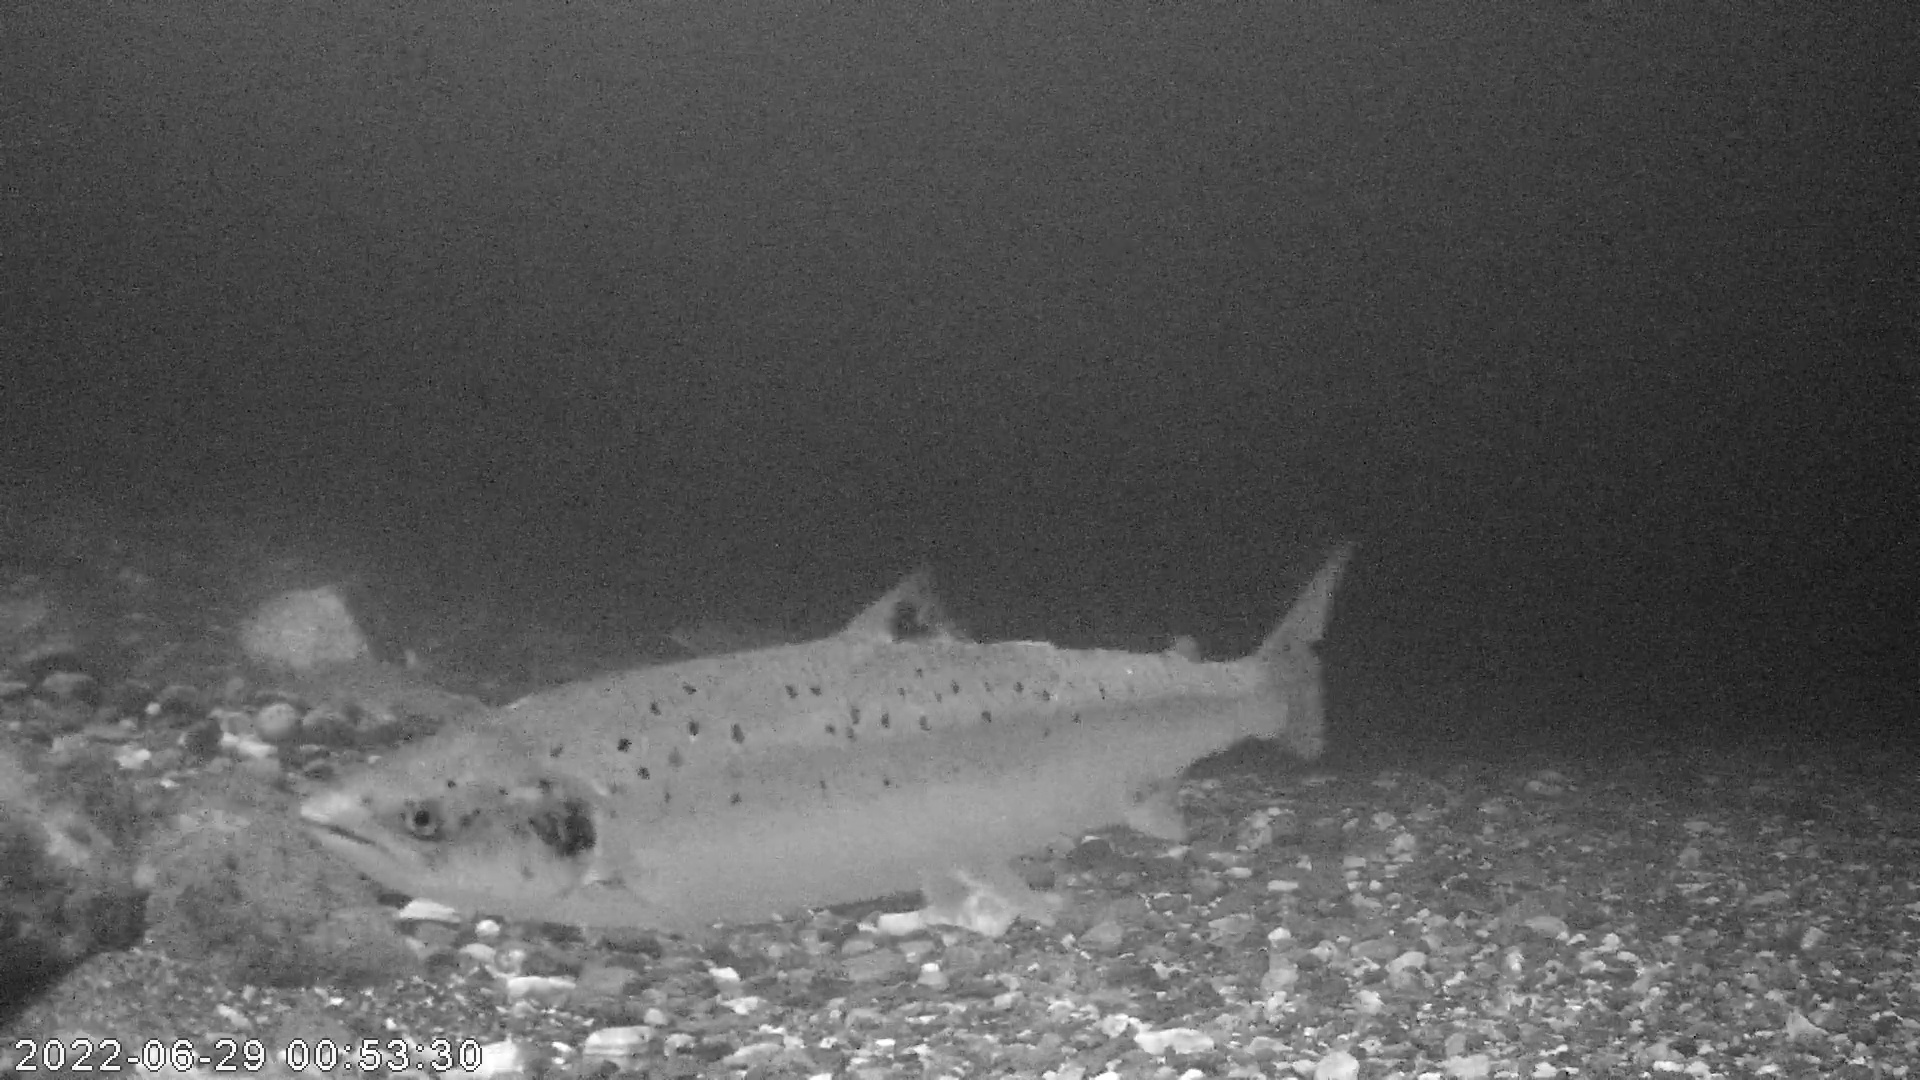salmon: (295, 525, 1360, 939)
